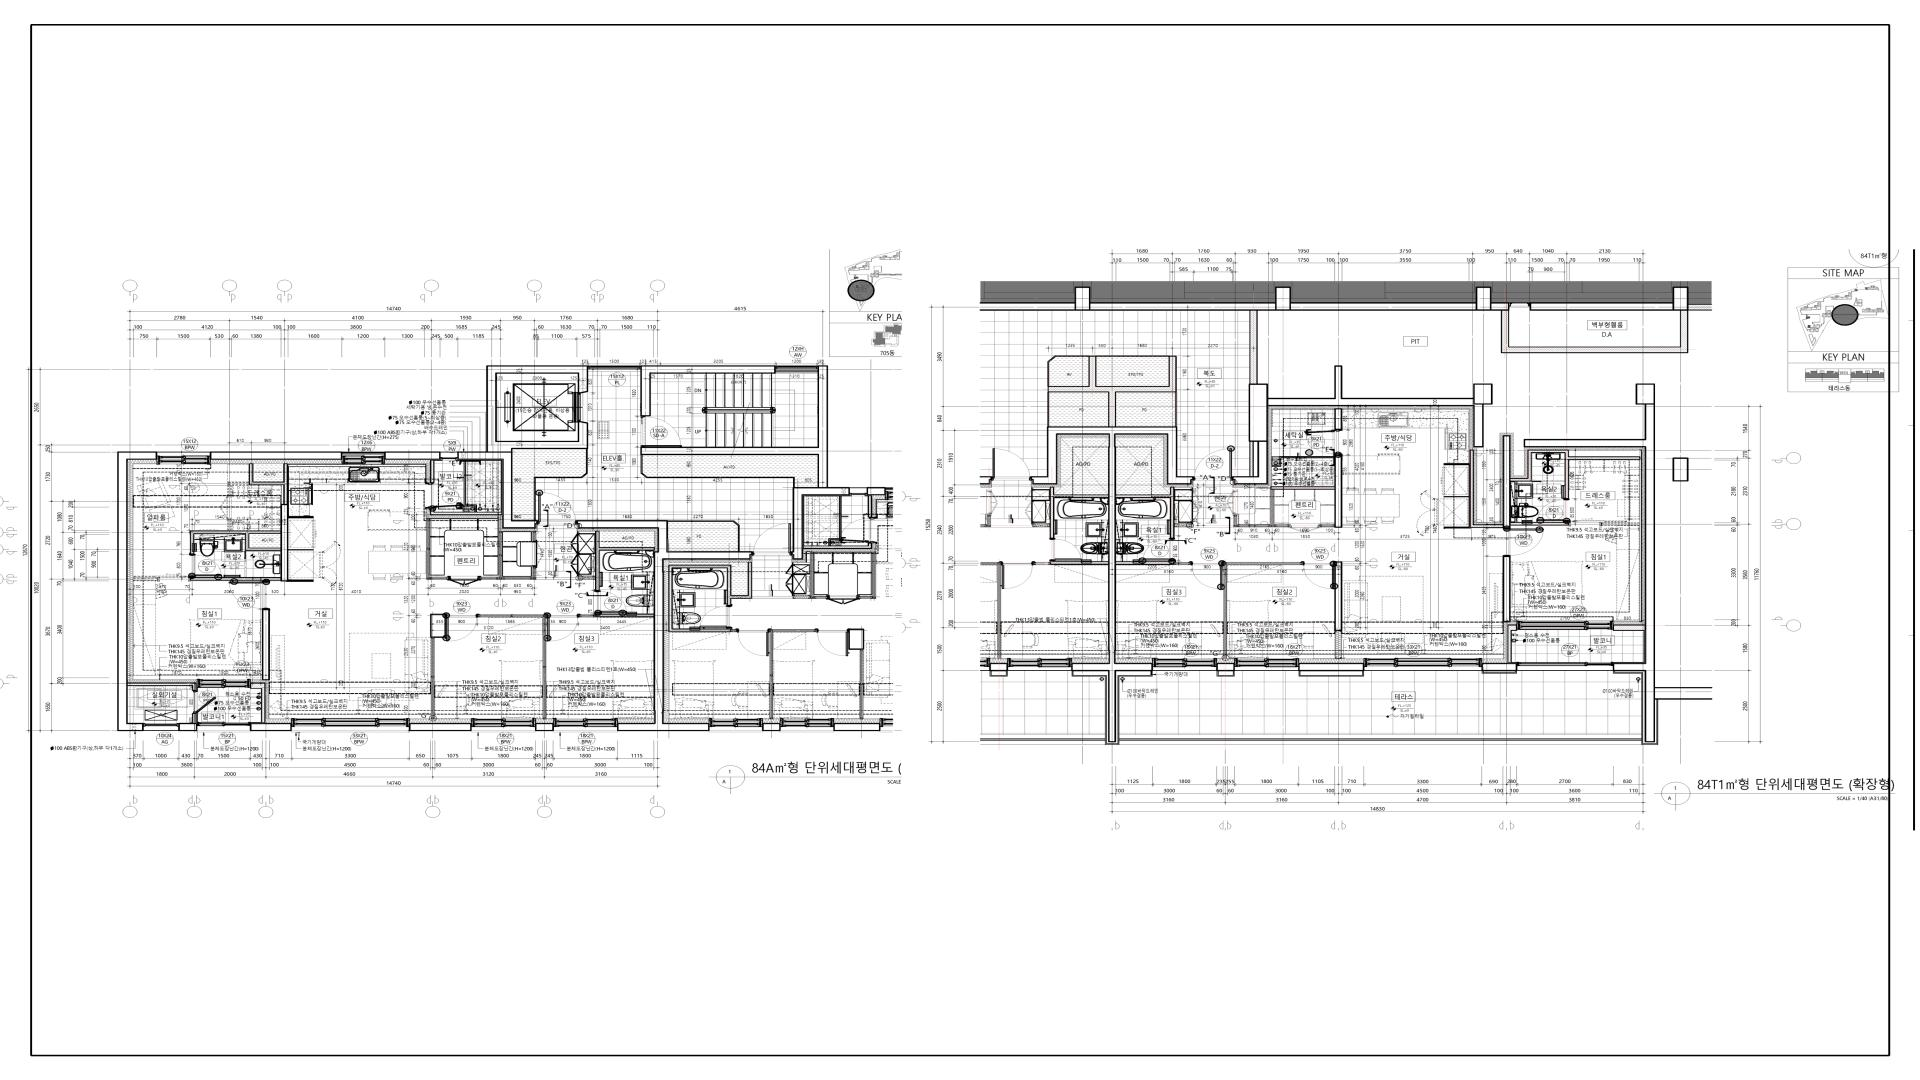door: (538, 489, 578, 529), (641, 417, 682, 447), (231, 580, 273, 609), (1193, 448, 1232, 480), (1503, 529, 1544, 556), (430, 483, 464, 512), (1304, 430, 1342, 455), (546, 615, 579, 644), (1303, 560, 1335, 589), (1191, 562, 1224, 589), (446, 615, 477, 641), (189, 554, 223, 578), (1143, 538, 1175, 562), (595, 592, 628, 615), (1538, 500, 1569, 522), (193, 691, 216, 713), (531, 542, 543, 567), (220, 496, 232, 520), (1290, 524, 1320, 533), (448, 576, 481, 584)
wall: (1524, 384, 1713, 742), (1030, 426, 1193, 742), (578, 521, 754, 732), (1232, 365, 1493, 484), (641, 365, 828, 488), (1469, 435, 1640, 527), (117, 451, 157, 732), (1047, 355, 1178, 426), (487, 365, 588, 452), (1233, 455, 1342, 527), (1224, 562, 1303, 658), (477, 615, 546, 719), (641, 365, 775, 415), (458, 451, 538, 529), (595, 531, 654, 592), (1116, 487, 1175, 538), (481, 531, 537, 580), (190, 530, 281, 554), (249, 463, 289, 504), (427, 520, 448, 580), (210, 452, 342, 460), (261, 609, 270, 680), (281, 504, 289, 582), (1250, 310, 1258, 384), (251, 683, 265, 723), (1335, 562, 1342, 632), (128, 683, 196, 691), (1299, 663, 1365, 671), (1503, 556, 1511, 621), (410, 723, 472, 731), (1507, 625, 1518, 662), (251, 723, 291, 732), (385, 452, 440, 459), (431, 638, 435, 719), (1116, 562, 1191, 566), (1481, 663, 1518, 671), (430, 512, 502, 516), (228, 483, 249, 496), (596, 613, 657, 617), (190, 578, 281, 580), (1613, 625, 1644, 632), (178, 723, 198, 732), (1335, 409, 1342, 430), (1216, 663, 1234, 671), (535, 723, 553, 731), (1249, 442, 1253, 476), (430, 459, 434, 483), (133, 578, 158, 580), (227, 520, 232, 530), (578, 576, 596, 579), (579, 615, 596, 617), (531, 531, 535, 542), (193, 713, 196, 723), (244, 551, 247, 559)
window: (291, 717, 410, 732), (1365, 658, 1482, 671), (553, 717, 618, 732), (1518, 621, 1613, 630), (1236, 658, 1299, 671), (472, 719, 535, 732), (1153, 658, 1216, 671), (1518, 663, 1613, 671), (157, 452, 210, 464), (342, 452, 385, 464), (196, 679, 251, 688), (198, 723, 251, 732), (588, 365, 641, 372), (775, 365, 818, 373), (144, 723, 178, 731), (440, 451, 458, 460)
